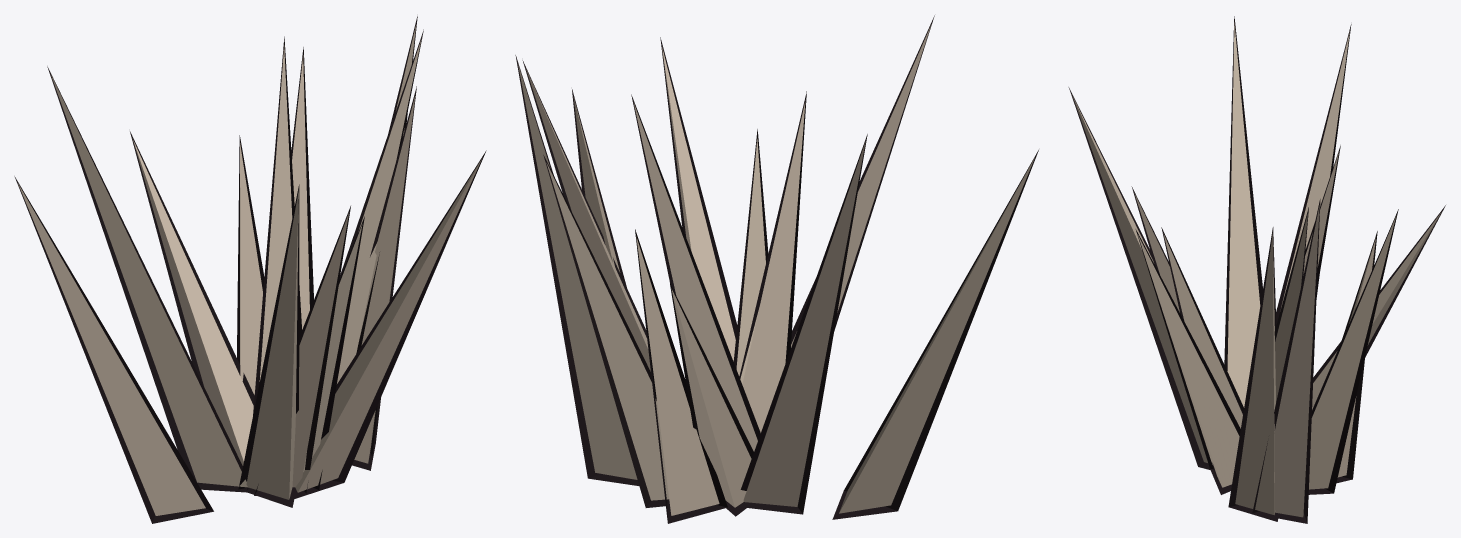
Rendered from SM_Bush_06.fbx.
3 views of the same model, side by side, from view 1: azimuth 30°, elevation 25°; view 2: azimuth 150°, elevation 25°; view 3: azimuth 270°, elevation 25° (orthographic). The views are drawn at different scales.
Parts seen in each view (by area): view 1: SM_Bush_06; view 2: SM_Bush_06; view 3: SM_Bush_06.
Boxes of the visible parts, left/top/right/bottom form: SM_Bush_06: left=14, top=16, right=486, bottom=523; SM_Bush_06: left=515, top=15, right=1038, bottom=523; SM_Bush_06: left=1068, top=16, right=1445, bottom=523.
Size of the model in its own units: 0.9292 by 0.825 by 0.7535.
